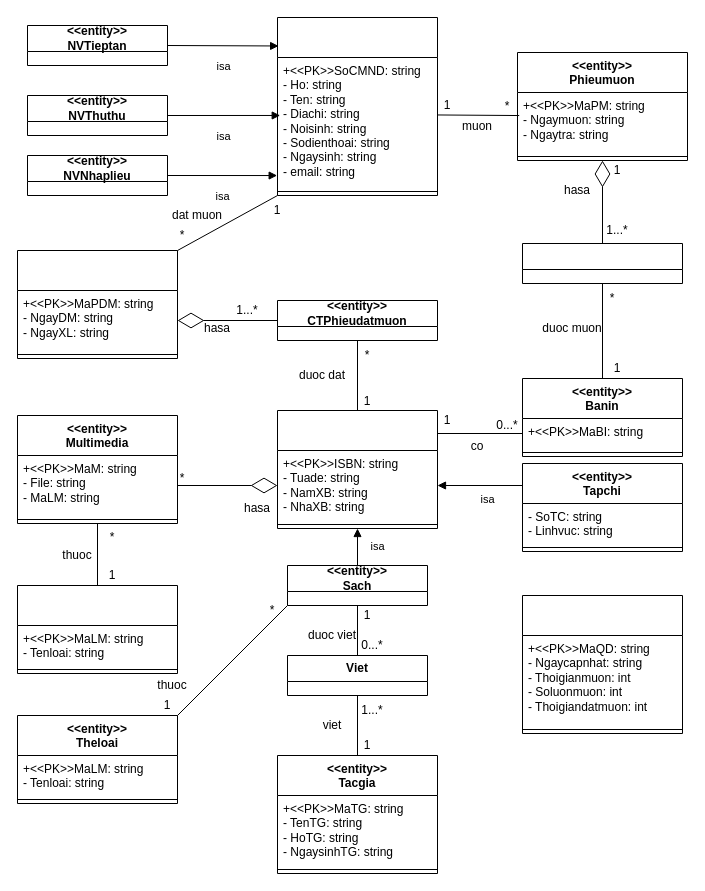
The diagram is 705 pixels wide and 891 high, and some of its shapes have lost their labels. Here are the shapes that lost their labels. From the top down, the box of each, then its label:
(276, 16, 438, 196): <<entity>> Docgia
(522, 242, 682, 284): <<entity>> CTPhieumuon
(16, 250, 178, 358): <<entity>> Phieudatmuon
(276, 410, 438, 528): <<entity>> Tailieu
(16, 584, 178, 674): <<entity>> Loaimultimedia
(522, 594, 682, 734): <<entity>> Quidinh
